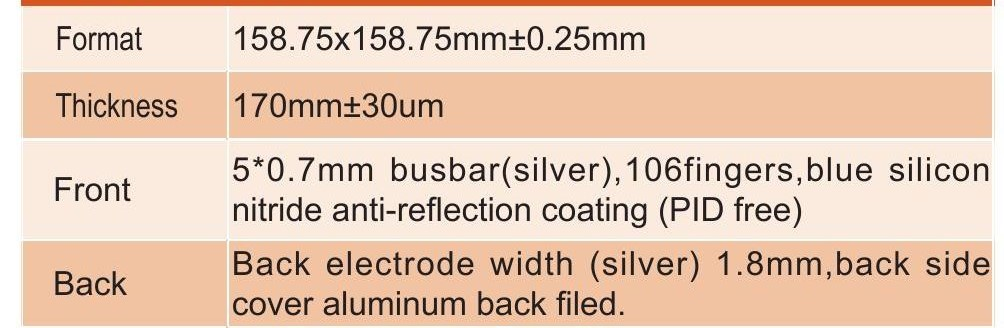table: (15, 1, 1004, 328)
table column: (231, 4, 996, 326), (29, 8, 222, 325)
table row: (24, 145, 996, 238), (23, 243, 1000, 327), (26, 76, 994, 137), (26, 12, 991, 73)
